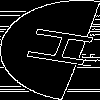H: (25, 25, 100, 71)
